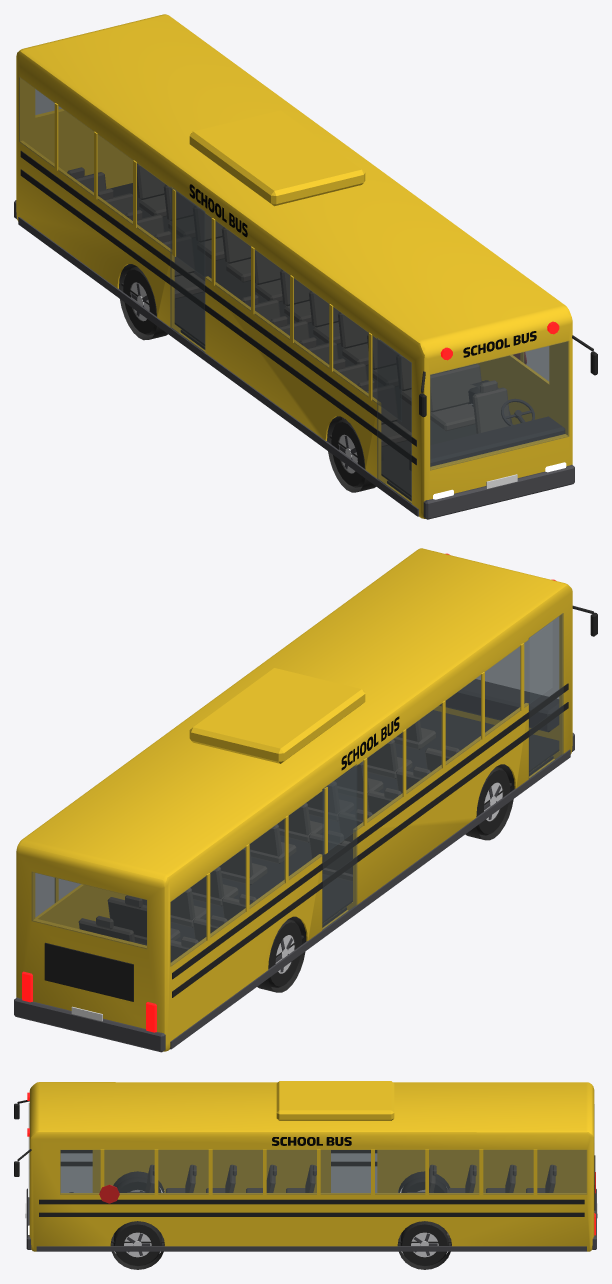
The model's file is school_bus.glb.
The picture shows the model from 3 angles, top to bottom: view 1: azimuth 30°, elevation 25°; view 2: azimuth 150°, elevation 25°; view 3: azimuth 270°, elevation 25°; orthographic projection. The views are drawn at different scales.
Parts seen in each view (by area): view 1: school_bus_body, glass, wheel_RR, wheel_FR; view 2: school_bus_body, glass, wheel_FR, wheel_RR; view 3: school_bus_body, glass, wheel_FL, wheel_RL, wheel_RR, wheel_FR.
Boxes of the visible parts, x1,y1,x2,y2 form: school_bus_body: [14, 14, 597, 519]; glass: [19, 77, 569, 503]; wheel_RR: [123, 266, 156, 335]; wheel_FR: [331, 419, 365, 487]; school_bus_body: [14, 548, 597, 1052]; glass: [31, 613, 563, 966]; wheel_FR: [476, 766, 510, 835]; wheel_RR: [268, 919, 301, 987]; school_bus_body: [14, 1081, 597, 1269]; glass: [28, 1103, 594, 1215]; wheel_FL: [113, 1221, 161, 1266]; wheel_RL: [400, 1221, 448, 1266]; wheel_RR: [401, 1177, 446, 1192]; wheel_FR: [116, 1177, 161, 1192].
Size of the model in its own units: 2.98 by 3.5 by 12.41.
17 materials, 1 textured.
